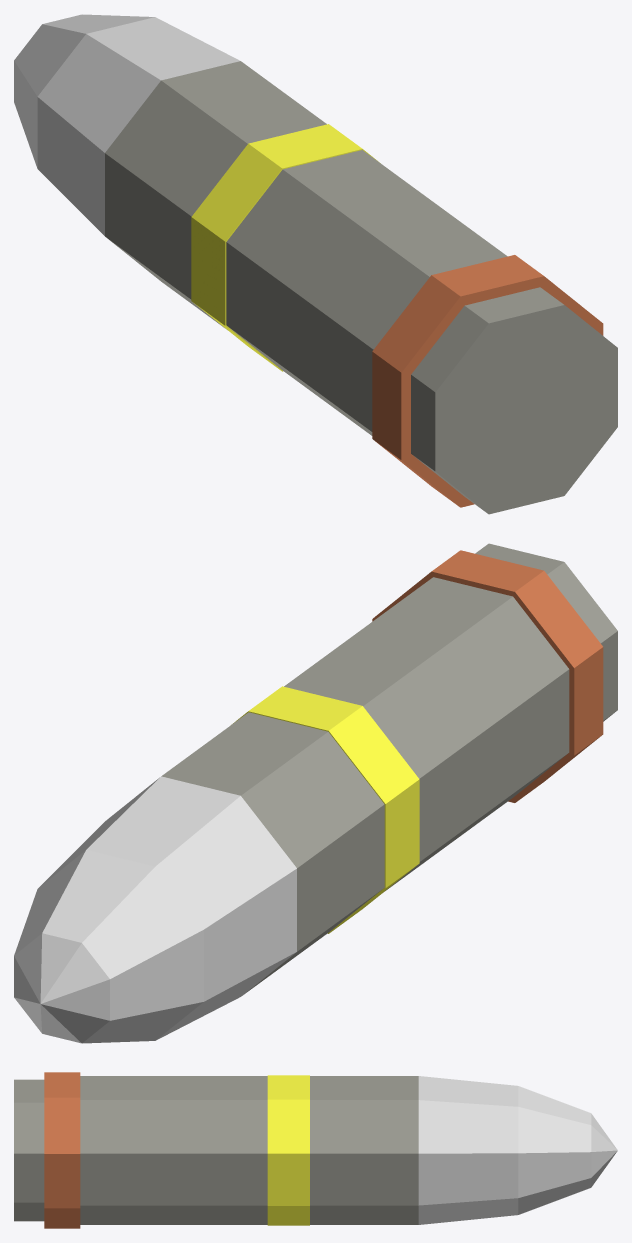
The model's file is ce_ammo_artillery_smk_a.obj.
3 views of the same model, one above another, from view 1: azimuth 30°, elevation 25°; view 2: azimuth 150°, elevation 25°; view 3: azimuth 270°, elevation 25° (orthographic). The views are drawn at different scales.
Visible parts, largest first — view 1: ce_ammo_artillery_smk_a_2, ce_ammo_artillery_smk_a_0, ce_ammo_artillery_smk_a_4, ce_ammo_artillery_smk_a_5, ce_ammo_artillery_smk_a_1, ce_ammo_artillery_smk_a_3, ce_ammo_artillery_smk_a_6; view 2: ce_ammo_artillery_smk_a_2, ce_ammo_artillery_smk_a_5, ce_ammo_artillery_smk_a_4, ce_ammo_artillery_smk_a_6, ce_ammo_artillery_smk_a_1, ce_ammo_artillery_smk_a_3, ce_ammo_artillery_smk_a_7, ce_ammo_artillery_smk_a_0; view 3: ce_ammo_artillery_smk_a_2, ce_ammo_artillery_smk_a_4, ce_ammo_artillery_smk_a_5, ce_ammo_artillery_smk_a_6, ce_ammo_artillery_smk_a_3, ce_ammo_artillery_smk_a_1, ce_ammo_artillery_smk_a_0, ce_ammo_artillery_smk_a_7.
Boxes of the visible parts, x1,y1,x2,y2 form: ce_ammo_artillery_smk_a_2: (226, 150, 507, 435); ce_ammo_artillery_smk_a_0: (411, 287, 617, 514); ce_ammo_artillery_smk_a_4: (105, 61, 326, 328); ce_ammo_artillery_smk_a_5: (37, 17, 239, 235); ce_ammo_artillery_smk_a_1: (372, 255, 603, 507); ce_ammo_artillery_smk_a_3: (191, 124, 380, 371); ce_ammo_artillery_smk_a_6: (14, 14, 154, 168); ce_ammo_artillery_smk_a_2: (284, 577, 569, 890); ce_ammo_artillery_smk_a_5: (39, 776, 296, 1040); ce_ammo_artillery_smk_a_4: (161, 712, 384, 994); ce_ammo_artillery_smk_a_6: (14, 850, 203, 1043); ce_ammo_artillery_smk_a_1: (372, 550, 603, 802); ce_ammo_artillery_smk_a_3: (231, 686, 419, 933); ce_ammo_artillery_smk_a_7: (14, 933, 109, 1043); ce_ammo_artillery_smk_a_0: (475, 543, 617, 721); ce_ammo_artillery_smk_a_2: (80, 1076, 267, 1224); ce_ammo_artillery_smk_a_4: (310, 1076, 418, 1224); ce_ammo_artillery_smk_a_5: (418, 1076, 518, 1224); ce_ammo_artillery_smk_a_6: (518, 1086, 591, 1214); ce_ammo_artillery_smk_a_3: (267, 1075, 309, 1225); ce_ammo_artillery_smk_a_1: (44, 1072, 80, 1228); ce_ammo_artillery_smk_a_0: (14, 1079, 44, 1221); ce_ammo_artillery_smk_a_7: (591, 1113, 617, 1187).
Bounding box in the file's own units: 0.2134 × 0.2134 × 0.89.
